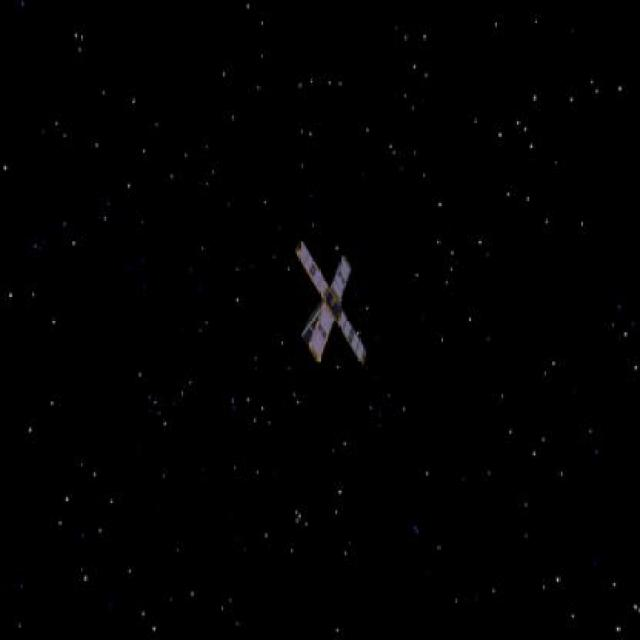satellite: (275, 239, 383, 371)
